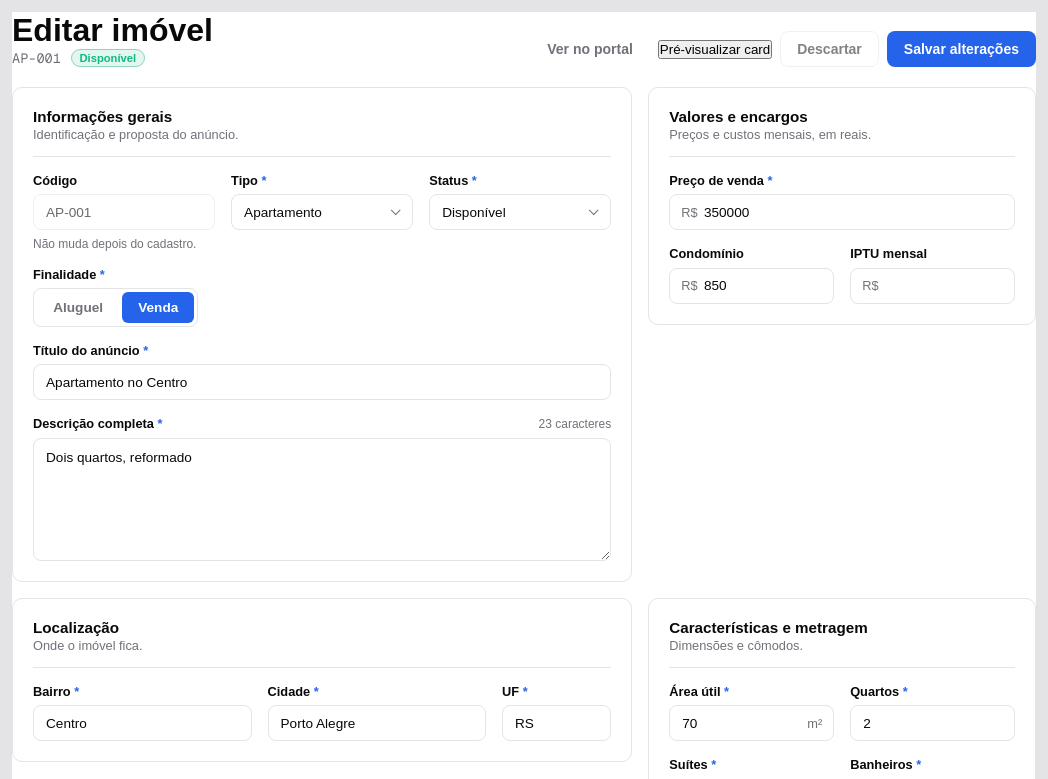
Test case: EdicaoDeImovel (TEC-400) › pre-visualizar card (TEC-336, D2) › desabilita quando um campo obrigatorio fica vazio
Clear the field labelled "Título do anúncio" at {"x": 322, "y": 382}, box [33, 364, 611, 400]
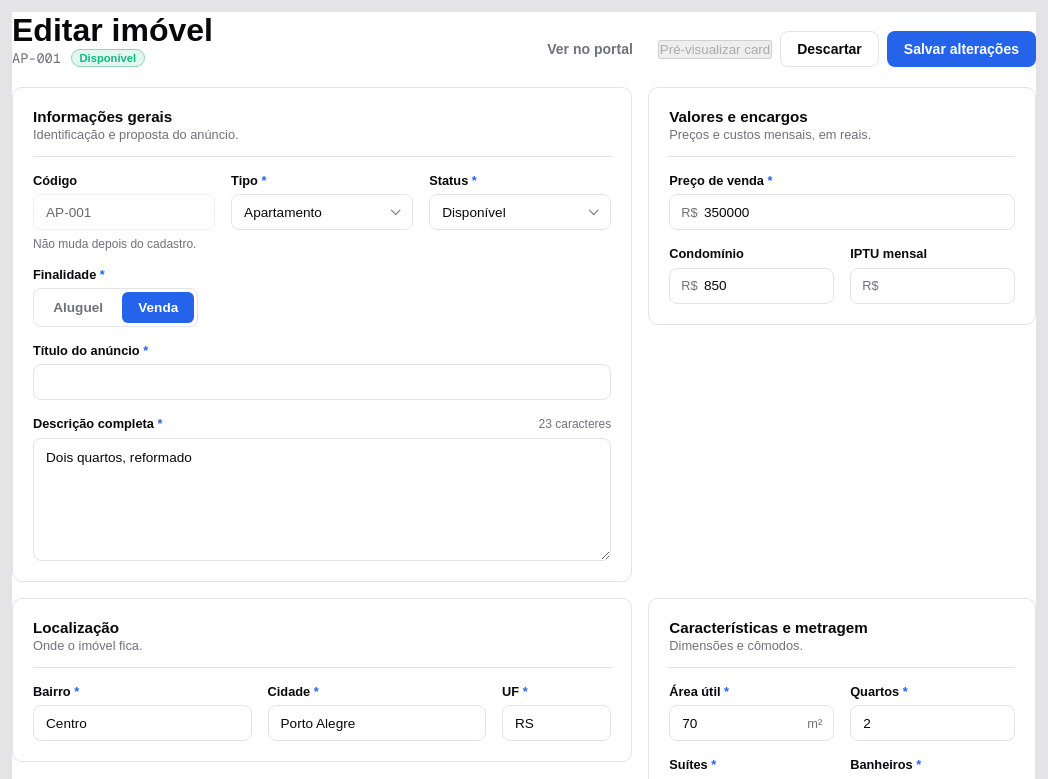
Expected: the button "Pré-visualizar card" is disabled, [658, 40, 772, 58]
